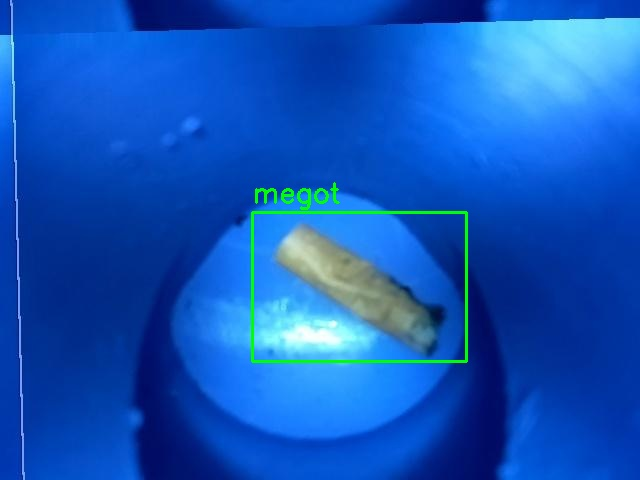megot: (252, 212, 466, 361)
